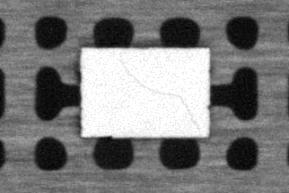DIE_CRACK: (119, 58, 202, 130)
